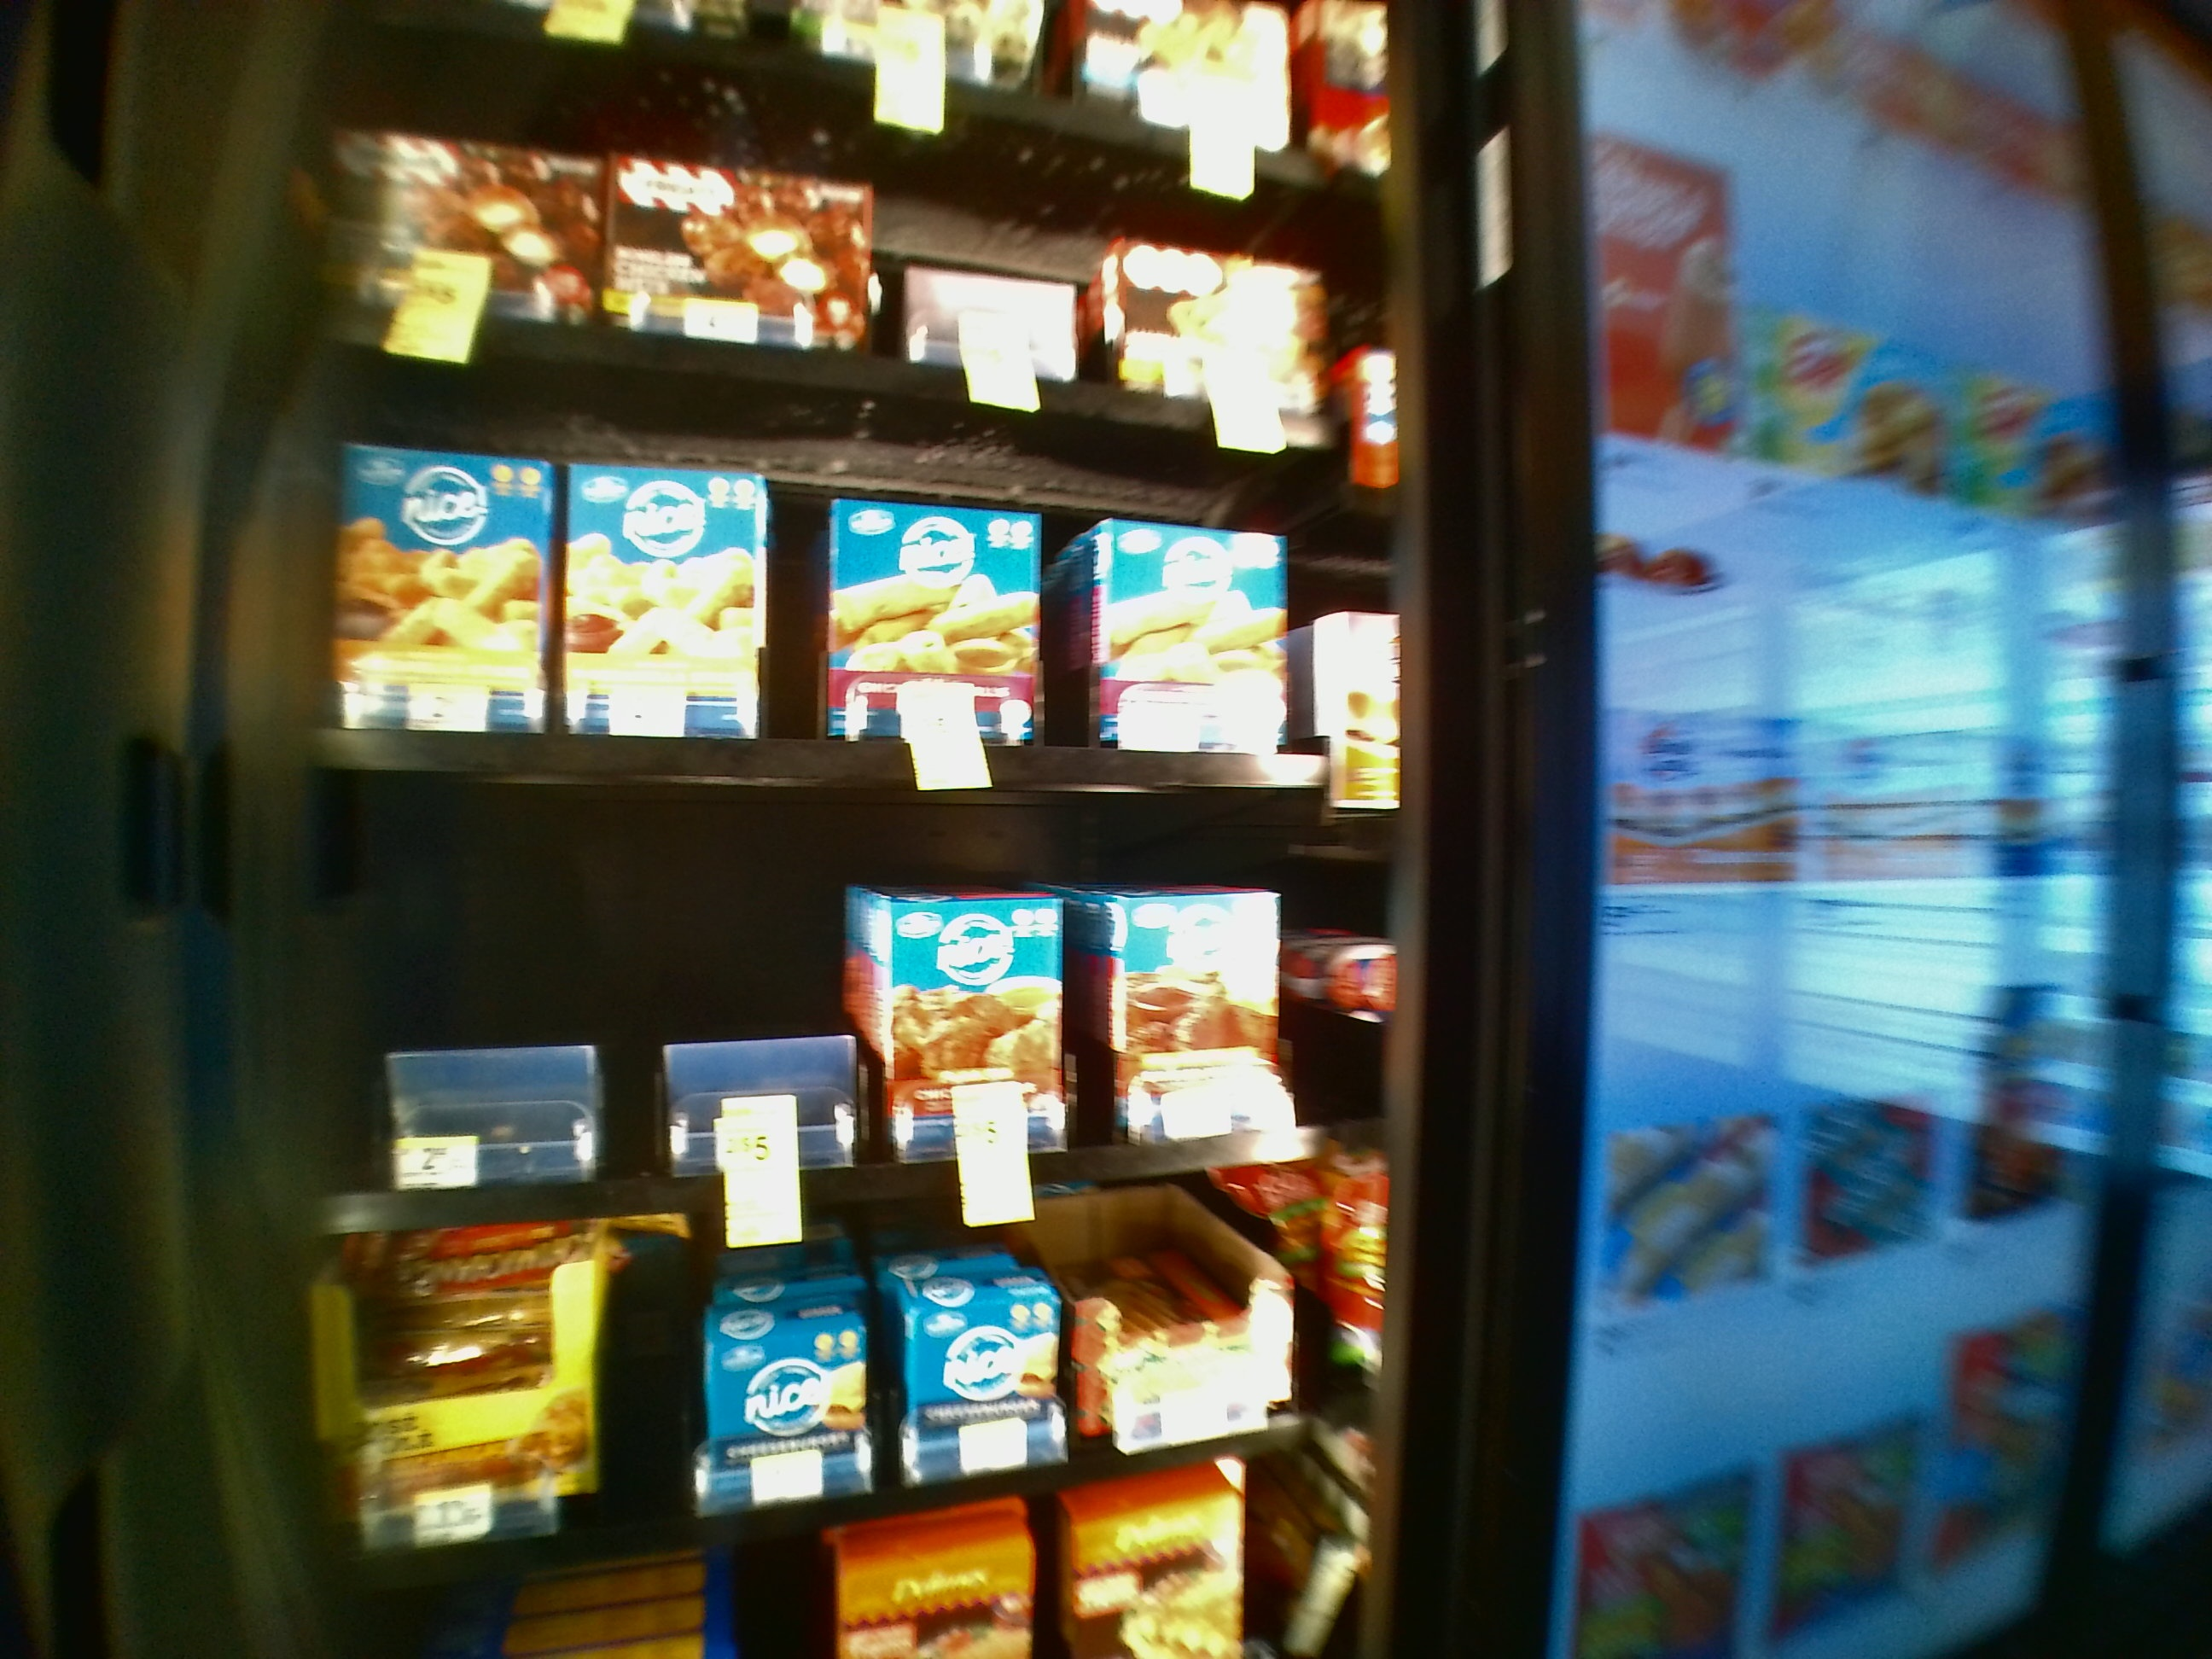shelf: (286, 350, 1388, 793), (280, 809, 1388, 1229)
